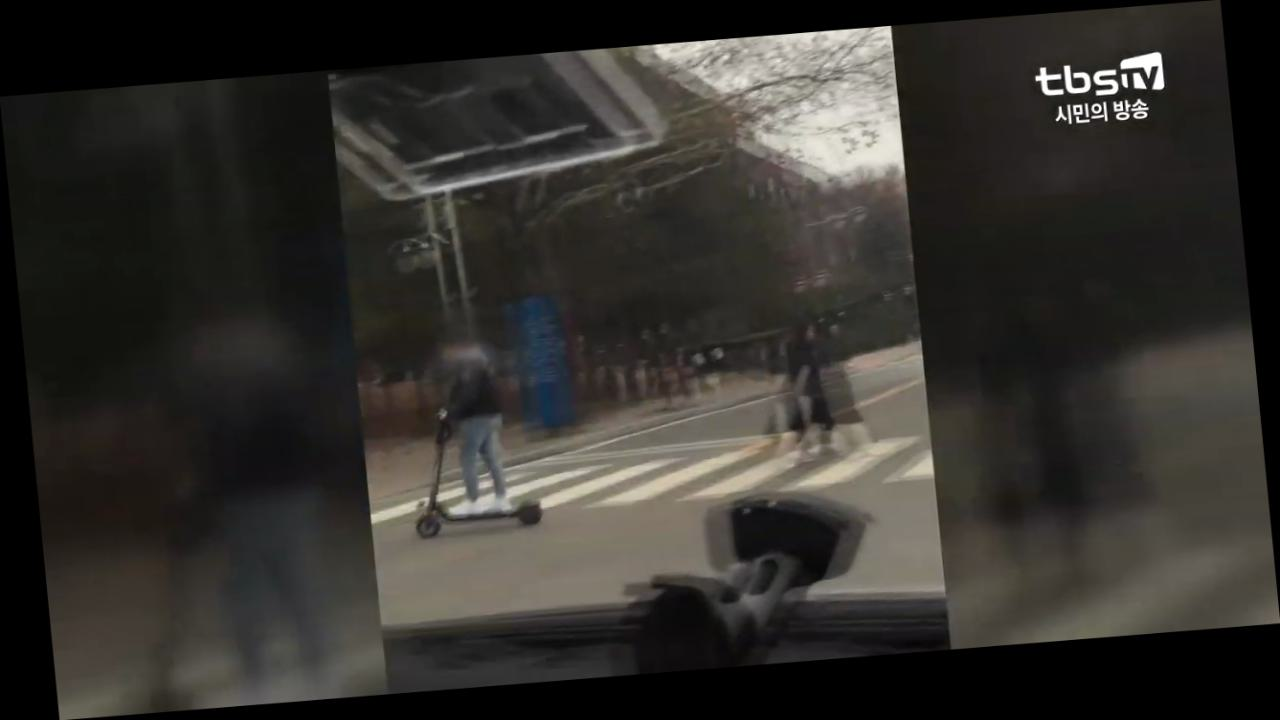nonhelmet: (393, 326, 555, 540)
